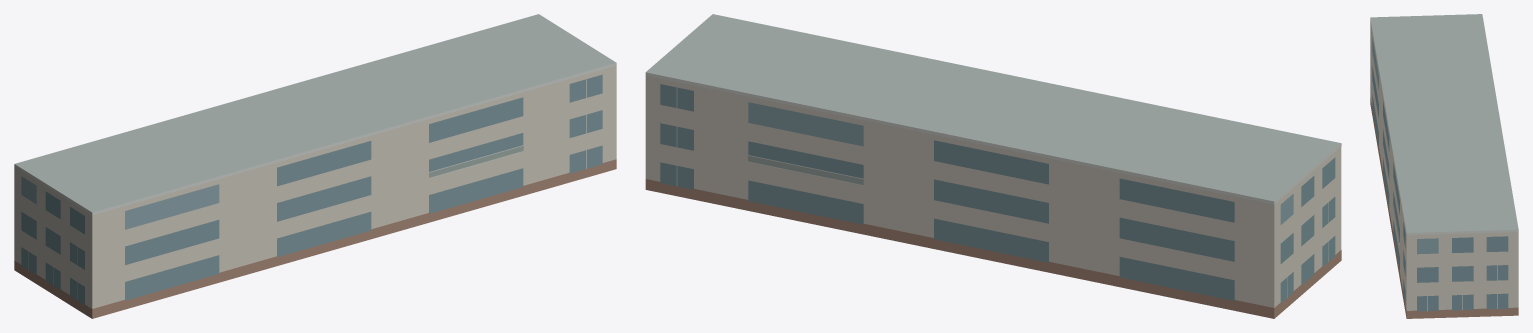
File: survey-upis-32813246.glb
3 renders of one model, left to right at view 1: azimuth 30°, elevation 25°; view 2: azimuth 150°, elevation 25°; view 3: azimuth 270°, elevation 25°, orthographic. The views are drawn at different scales.
Parts seen in each view (by area): view 1: survey-upis-32813246.tmp; view 2: survey-upis-32813246.tmp; view 3: survey-upis-32813246.tmp.
Boxes of the visible parts, bbox=[...] form: survey-upis-32813246.tmp: bbox=[14, 14, 616, 318]; survey-upis-32813246.tmp: bbox=[645, 14, 1341, 318]; survey-upis-32813246.tmp: bbox=[1370, 14, 1518, 318].
Bounding box in the file's own units: 50 × 9.15 × 14.33.
